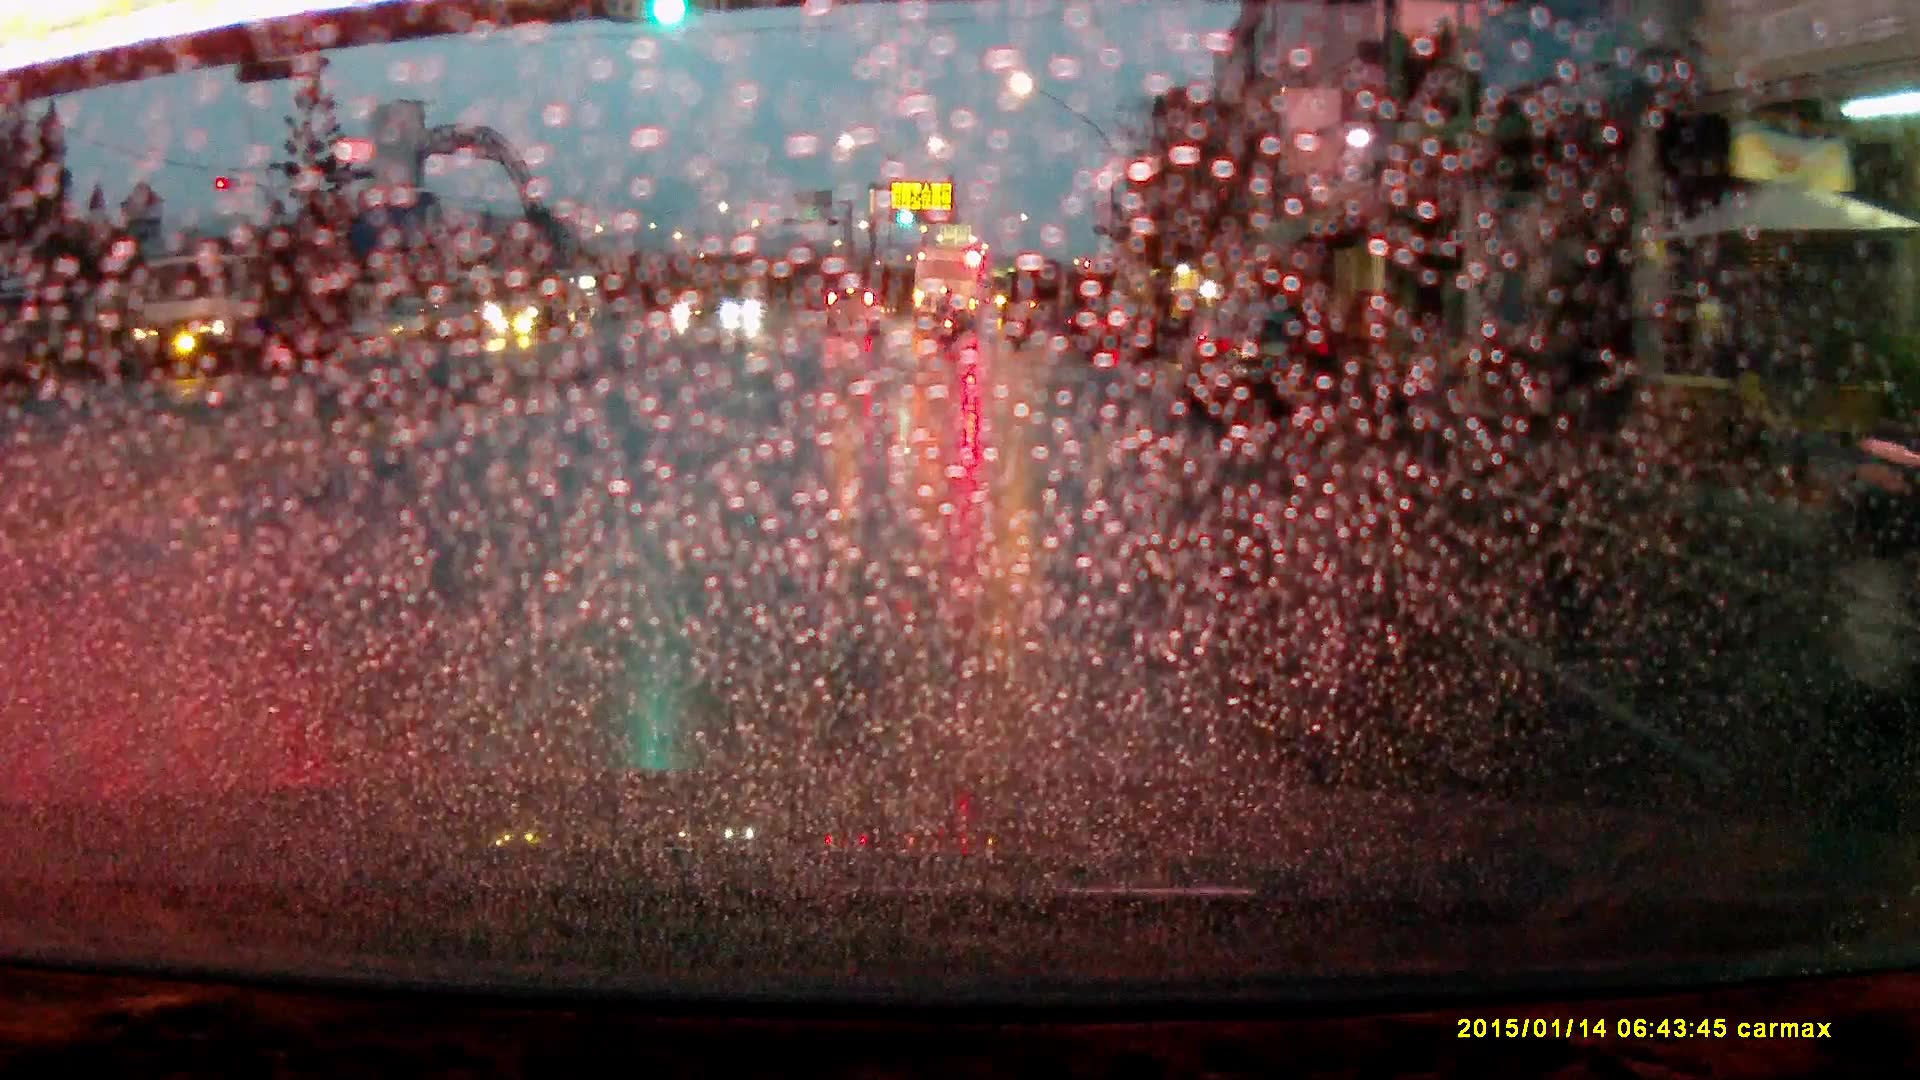rider: (937, 289, 965, 351)
vehicle: (127, 251, 335, 379), (1176, 310, 1345, 413), (488, 263, 586, 339), (912, 248, 981, 330), (1082, 301, 1158, 358), (827, 286, 885, 334), (721, 294, 767, 321)
